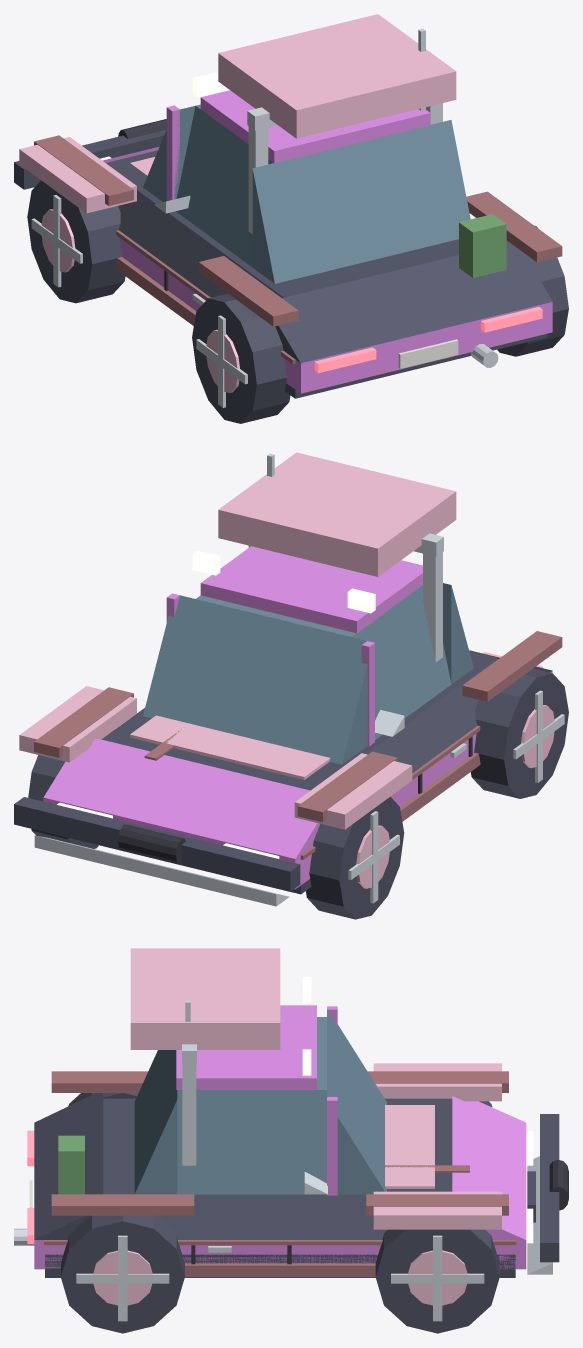
File: rockslide_racer.glb
The picture shows the model from 3 angles, top to bottom: view 1: azimuth 30°, elevation 25°; view 2: azimuth 150°, elevation 25°; view 3: azimuth 270°, elevation 25°; orthographic projection. The views are drawn at different scales.
Parts seen in each view (by area): view 1: RearWindow.170, RoofTent.022, Tail.070, CabinSideL.067, Wheel_RL.230, Body.270, Wheel_FL.230, Roof.270, ShoulderL.067, BodyUpper.067, Fender-1.063, Arch-1True.146 (+22 smaller); view 2: Windshield.170, RoofTent.022, Nose.067, Roof.270, Wheel_RL.230, BashBar.063, CabinSideL.067, Wheel_FL.230, Hood.266, ShoulderL.067, BodyUpper.067, Bumper.266 (+21 smaller); view 3: RoofTent.022, CabinSideR.067, Wheel_RR.230, ShoulderR.067, Wheel_FR.230, Nose.067, Windshield.170, Roof.270, Tail.070, BodyUpper.067, RearWindow.170, Body.270 (+23 smaller).
Part boxes in pixels (x1,y1,x2,y2): RearWindow.170: (252,120,470,283); RoofTent.022: (218,14,456,138); Tail.070: (275,242,552,363); CabinSideL.067: (176,106,273,267); Wheel_RL.230: (192,293,290,423); Body.270: (119,238,552,393); Wheel_FL.230: (27,180,125,303); Roof.270: (200,90,430,163); ShoulderL.067: (118,190,283,298); BodyUpper.067: (106,150,458,297); Fender-1.063: (19,137,136,213); Arch-1True.146: (198,256,298,326); Windshield.170: (143,595,367,764); RoofTent.022: (218,452,456,576); Nose.067: (43,738,319,858); Roof.270: (200,546,422,633); Wheel_RL.230: (470,668,568,798); BashBar.063: (14,797,300,891); CabinSideL.067: (352,585,451,739); Wheel_FL.230: (306,796,404,919); Hood.266: (130,715,330,779); ShoulderL.067: (366,658,497,772); BodyUpper.067: (102,651,496,790); Bumper.266: (34,835,289,906); RoofTent.022: (130,948,280,1049); CabinSideR.067: (177,1090,326,1194); Wheel_RR.230: (61,1215,184,1333); ShoulderR.067: (159,1198,387,1239); Wheel_FR.230: (375,1229,499,1333); Nose.067: (452,1096,526,1239); Windshield.170: (327,1010,386,1194); Roof.270: (176,1005,316,1089); Tail.070: (34,1093,103,1239); BodyUpper.067: (103,1098,452,1198); RearWindow.170: (134,1050,177,1194); Body.270: (34,1240,526,1269).
Bounding box in the file's own units: 3.36 × 3.04 × 5.19.
